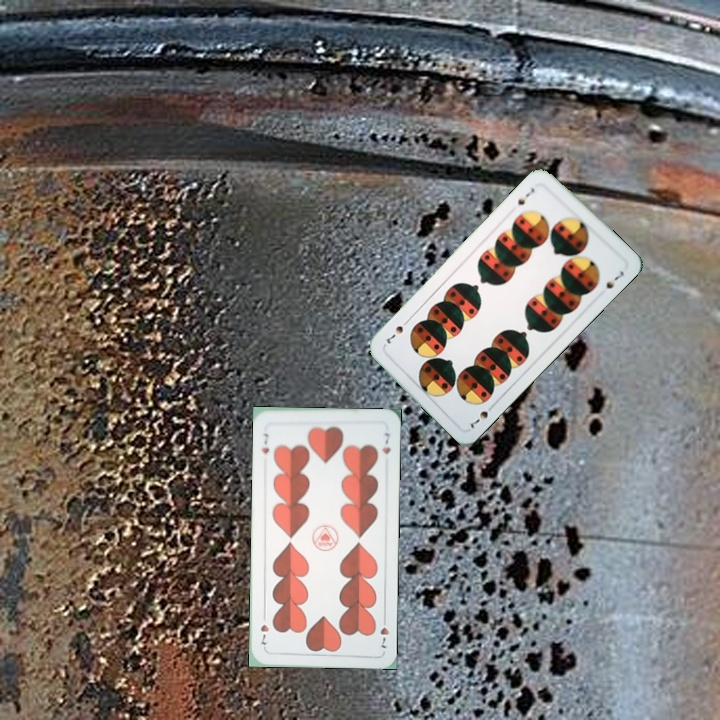H7: (376, 612, 391, 651), (258, 429, 272, 456)
S7: (466, 399, 498, 431), (513, 183, 537, 208)
